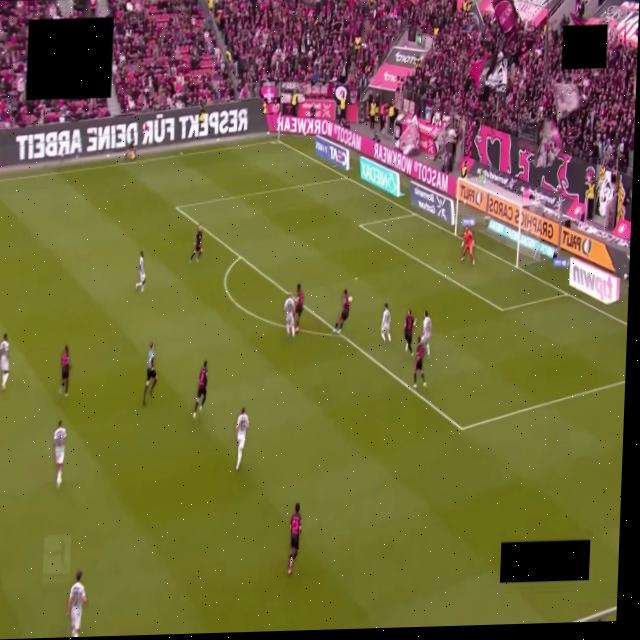ball: (348, 296, 352, 302)
player: (66, 571, 87, 636), (287, 503, 300, 574), (192, 361, 207, 418), (235, 408, 248, 470), (53, 421, 65, 487), (333, 289, 350, 333), (413, 338, 425, 388), (58, 346, 69, 397), (294, 283, 305, 332), (404, 310, 415, 354), (461, 227, 474, 264), (283, 293, 294, 336), (421, 311, 431, 358), (189, 226, 202, 262), (0, 334, 8, 391), (135, 251, 145, 291), (380, 303, 390, 341)
referee: (142, 344, 156, 405)
